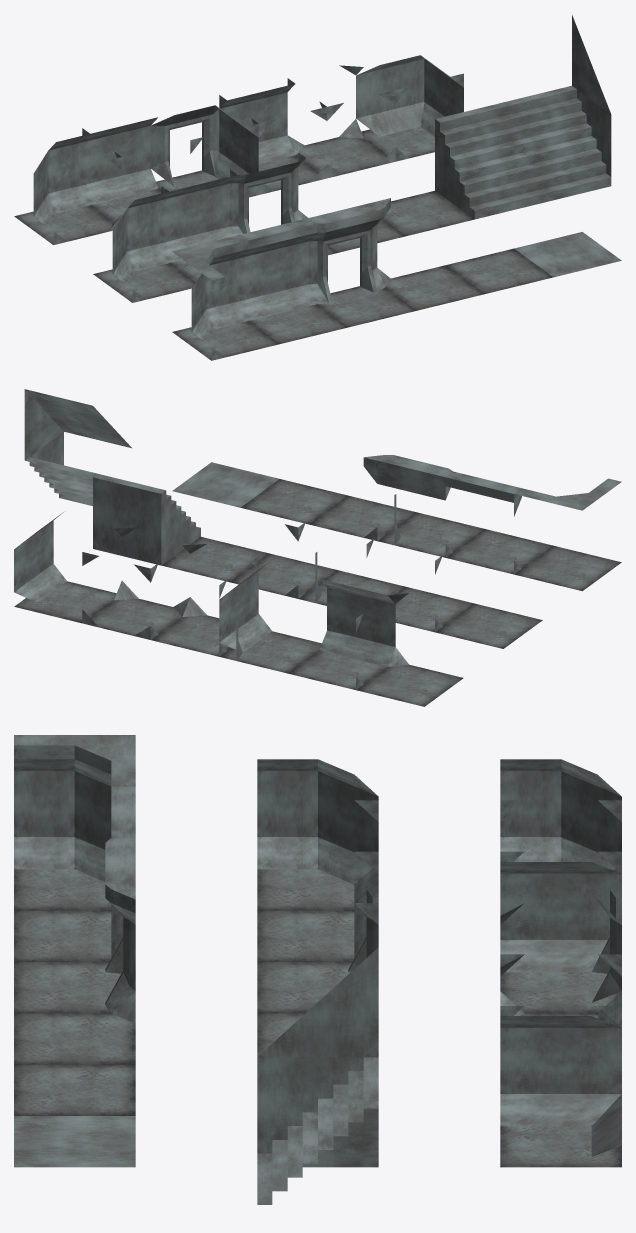
Rendered from test_tileset.gltf.
3 renders of one model, top to bottom at view 1: azimuth 30°, elevation 25°; view 2: azimuth 150°, elevation 25°; view 3: azimuth 270°, elevation 25°, orthographic. The views are drawn at different scales.
Visible parts, largest first — view 1: stairs, stairs_hall_bottom, outside_wall-col, hall_end-col, outside_wall_corner_1-col, outside_doorway-col, hall_doorway-col, hall_turn-col, wall_corner_1-col, hall-col, wall-col, hall_t-col (+8 smaller); view 2: hall-col, stairs, outside_doorway-col, hall_doorway-col, hall_end-col, outside_wall-col, outside_wall_corner_1-col, stars_hall_top, hall_x-col, outside_wall_corner_2-col, hall_turn-col, outside_roof-col (+8 smaller); view 3: hall_end-col, outside_wall_corner_1-col, hall_doorway-col, wall_corner_1-col, stairs_hall_bottom, hall_turn-col, outside_doorway-col, outside_wall_corner_2-col, stars_hall_top, outside_wall-col, outside_floor-col, outside_roof-col (+6 smaller).
Part boxes in pixels (bbox=[...]): stairs: bbox=[435, 102, 542, 219]; stairs_hall_bottom: bbox=[504, 85, 611, 202]; outside_wall-col: bbox=[240, 218, 347, 343]; hall_end-col: bbox=[356, 55, 463, 161]; outside_wall_corner_1-col: bbox=[172, 234, 279, 360]; outside_doorway-col: bbox=[309, 201, 416, 327]; hall_doorway-col: bbox=[150, 105, 258, 197]; hall_turn-col: bbox=[14, 134, 121, 244]; wall_corner_1-col: bbox=[93, 192, 195, 302]; hall-col: bbox=[82, 117, 161, 222]; wall-col: bbox=[161, 175, 237, 282]; hall_t-col: bbox=[219, 84, 326, 194]; hall-col: bbox=[288, 579, 395, 689]; stairs: bbox=[93, 474, 200, 565]; outside_doorway-col: bbox=[377, 455, 484, 557]; hall_doorway-col: bbox=[219, 561, 321, 673]; hall_end-col: bbox=[14, 512, 116, 623]; outside_wall-col: bbox=[445, 471, 552, 574]; outside_wall_corner_1-col: bbox=[514, 478, 621, 591]; stars_hall_top: bbox=[24, 389, 131, 459]; hall_x-col: bbox=[82, 527, 190, 639]; outside_wall_corner_2-col: bbox=[309, 455, 416, 540]; hall_turn-col: bbox=[356, 593, 463, 706]; outside_roof-col: bbox=[172, 462, 279, 507]; hall_end-col: bbox=[500, 1016, 621, 1167]; outside_wall_corner_1-col: bbox=[14, 735, 135, 910]; hall_doorway-col: bbox=[500, 862, 621, 1013]; wall_corner_1-col: bbox=[257, 759, 378, 910]; stairs_hall_bottom: bbox=[257, 1057, 378, 1204]; hall_turn-col: bbox=[500, 759, 621, 873]; outside_doorway-col: bbox=[14, 838, 135, 1013]; outside_wall_corner_2-col: bbox=[14, 889, 135, 1064]; stars_hall_top: bbox=[257, 947, 378, 1057]; outside_wall-col: bbox=[14, 786, 135, 961]; outside_floor-col: bbox=[14, 1064, 135, 1115]; outside_roof-col: bbox=[14, 1116, 135, 1167].
Size of what is drawn, in the model's own units: 28 by 8 by 20.
